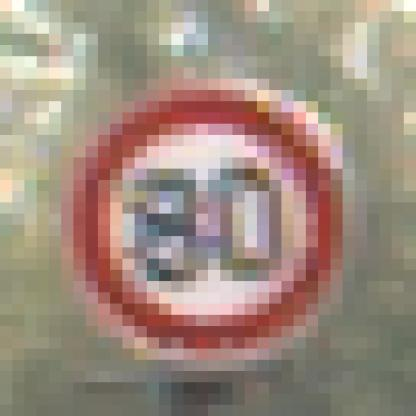Speed Limit -80-: (70, 80, 375, 383)
